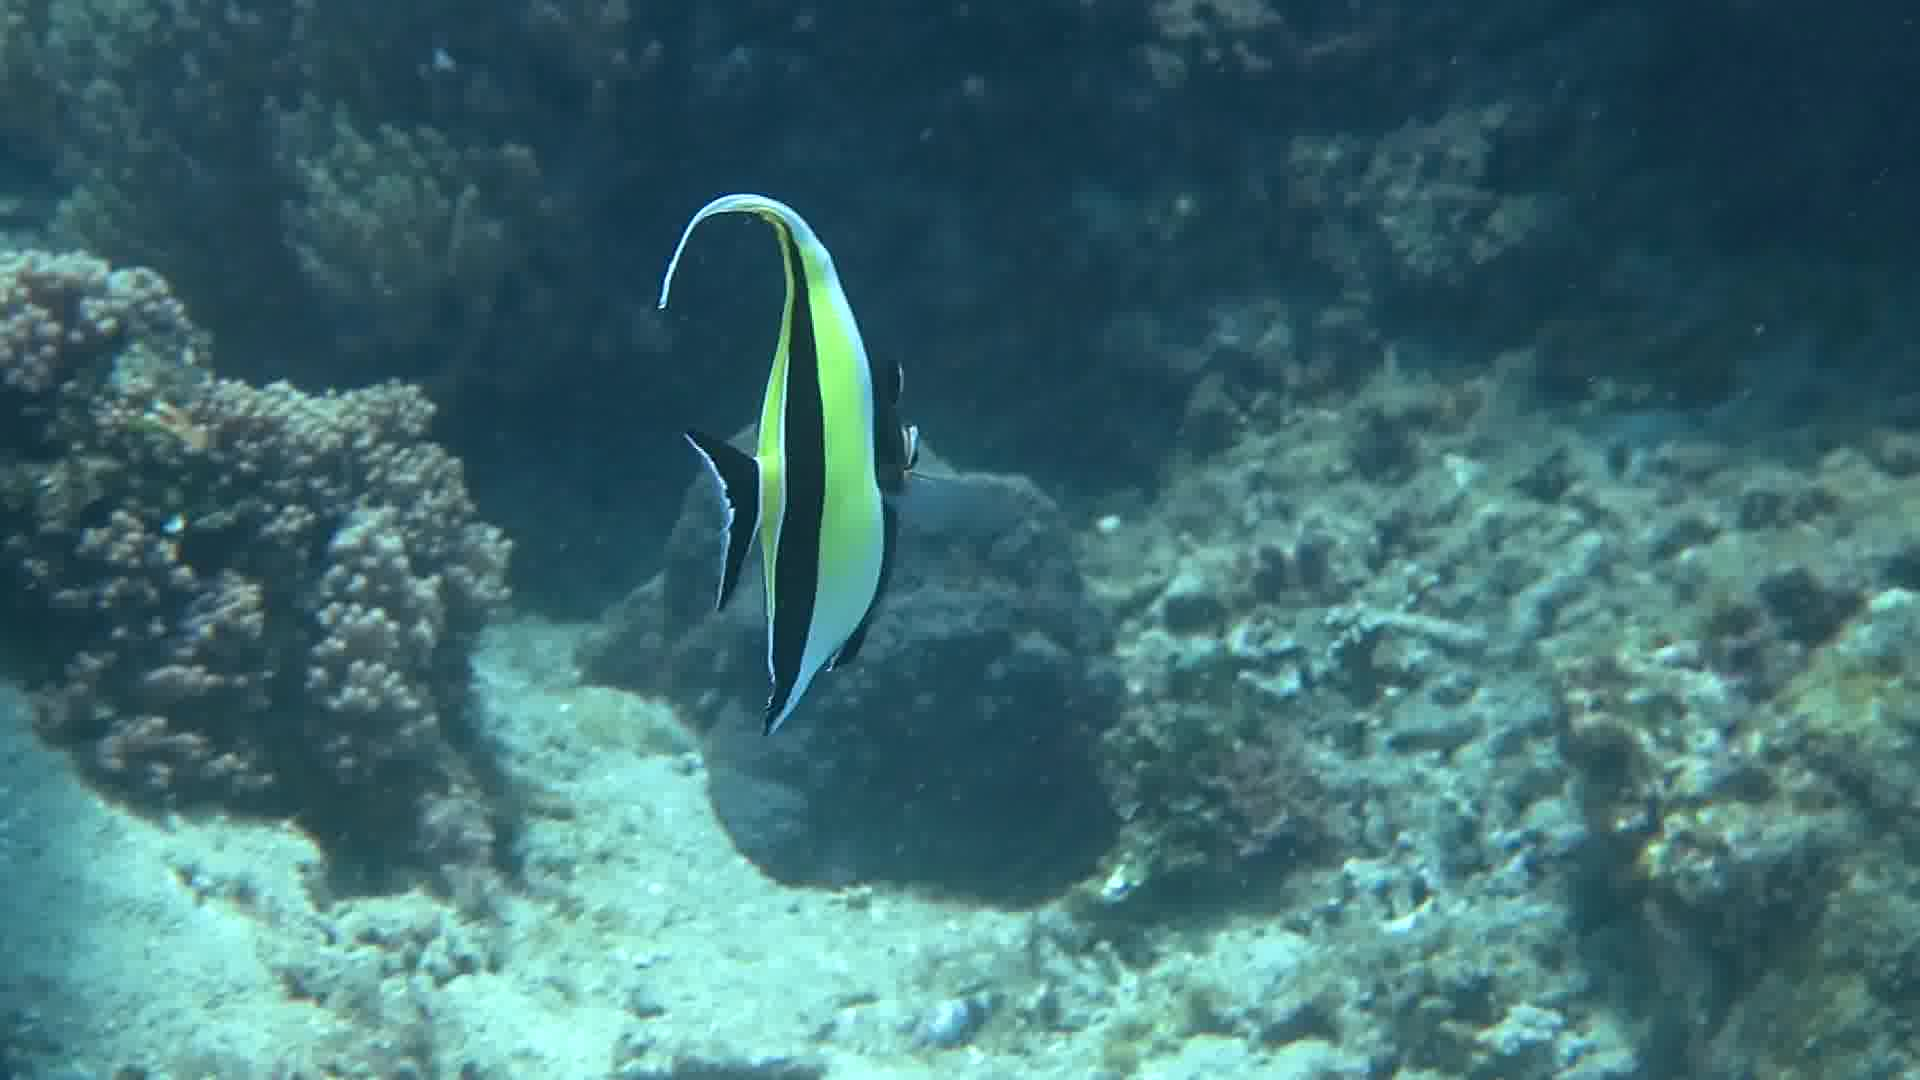Zanclus cornutus: (669, 195, 928, 748)
